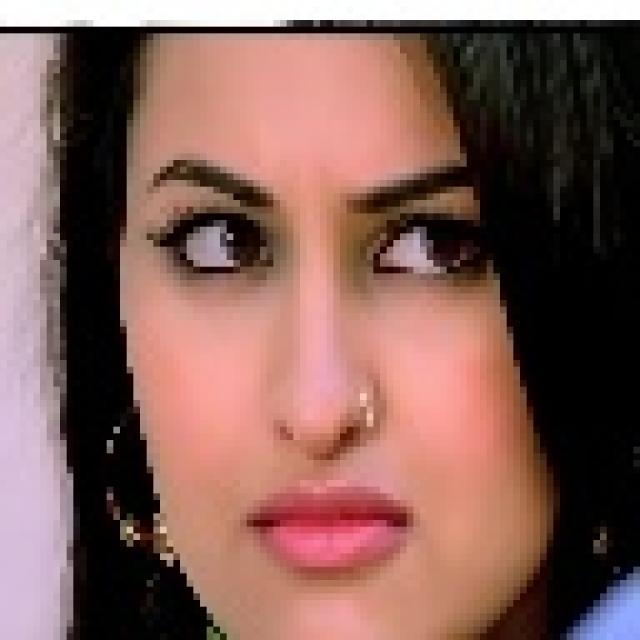angry: (80, 53, 560, 640)
